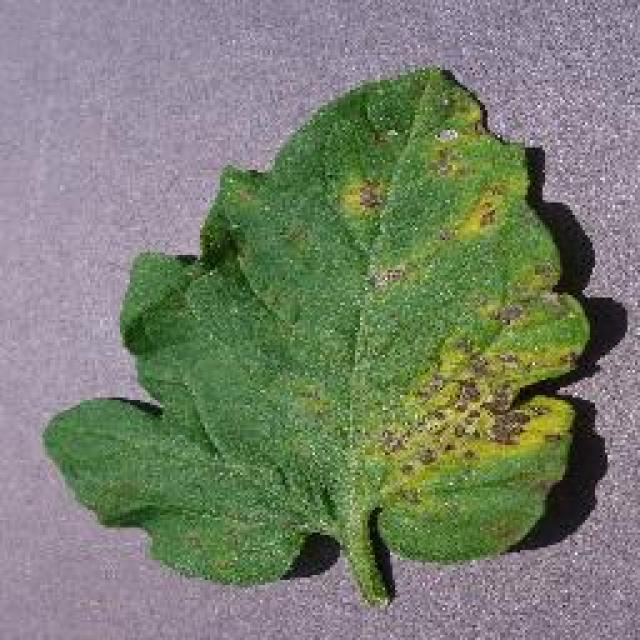Tomato___Septoria_leaf_spot: (48, 70, 588, 602)
